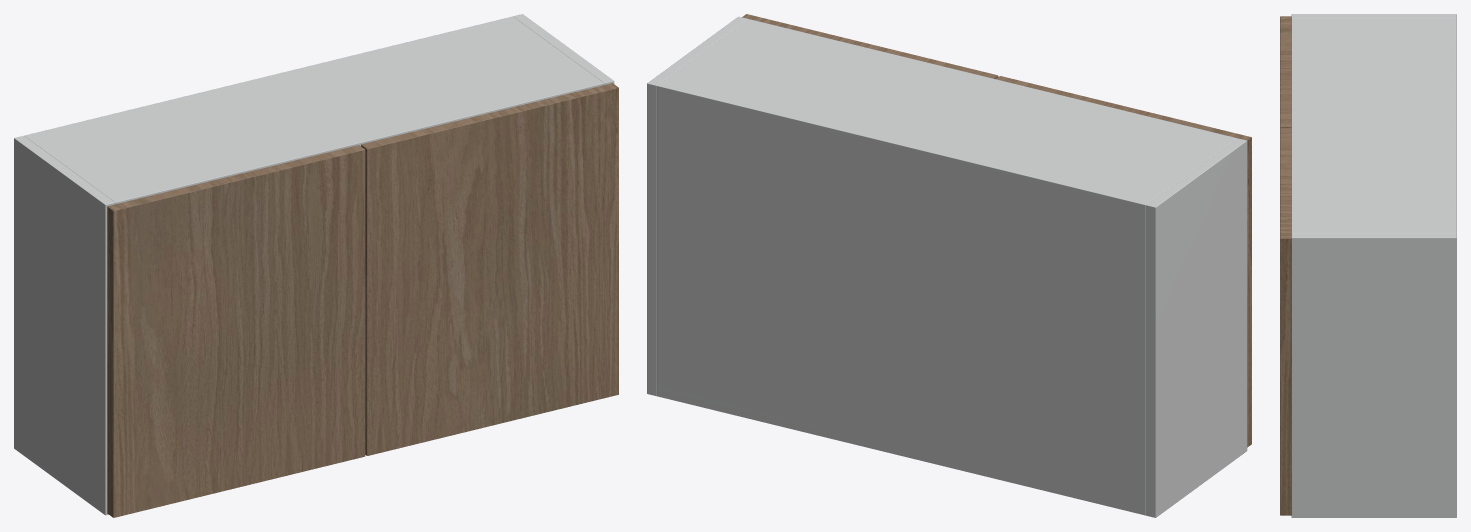
The model's file is oppein-pb-mnw-w3621.glb.
3 views of the same model, side by side, from view 1: azimuth 30°, elevation 25°; view 2: azimuth 150°, elevation 25°; view 3: azimuth 270°, elevation 25° (orthographic). The views are drawn at different scales.
Visible parts, largest first — view 1: Door, Door.001, Cabinet top, Cabinet side, Cabinet back, Cabinet side.001; view 2: Cabinet back, Cabinet top, Cabinet side, Cabinet side.001, Door, Cabinet bottom, Door.001; view 3: Cabinet side.001, Cabinet top, Door.001, Cabinet back, Door, Cabinet side.
Part boxes in pixels (x1,y1,x2,y2): Door: (107,145,365,517); Door.001: (361,83,618,455); Cabinet top: (24,17,604,204); Cabinet side: (14,135,115,515); Cabinet back: (24,16,515,137); Cabinet side.001: (513,14,614,84); Cabinet back: (657,83,1148,515); Cabinet top: (657,19,1236,214); Cabinet side: (1146,138,1247,517); Cabinet side.001: (647,16,747,396); Door: (996,76,1251,447); Cabinet bottom: (657,386,1145,513); Door.001: (742,14,998,78); Cabinet side.001: (1291,233,1456,517); Cabinet top: (1291,18,1456,233); Door.001: (1280,128,1291,515); Cabinet back: (1450,18,1456,233); Door: (1280,16,1291,127); Cabinet side: (1291,14,1456,18).
Bounding box in the file's own units: 0.9144 × 0.5334 × 0.3048.
2 materials, 1 textured.
